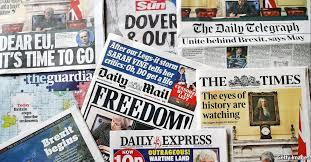Printing industry: (3, 2, 311, 162)
